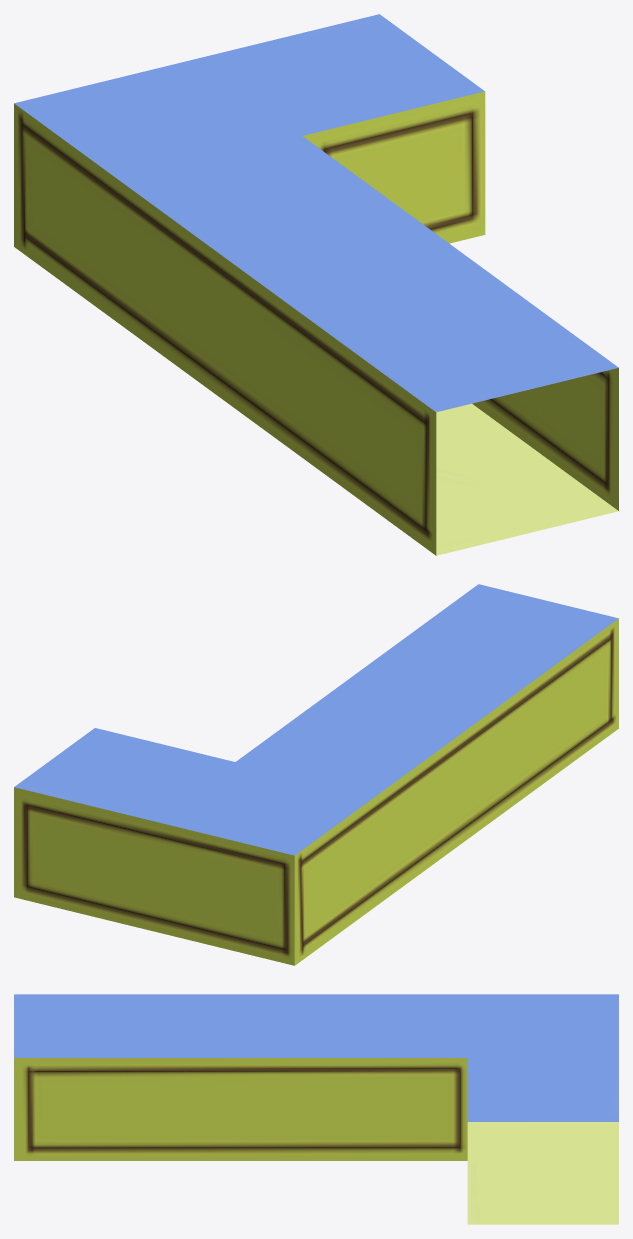
File: Pasillo_2.obj
3 views of the same model, one above another, from view 1: azimuth 30°, elevation 25°; view 2: azimuth 150°, elevation 25°; view 3: azimuth 270°, elevation 25° (orthographic). The views are drawn at different scales.
Parts seen in each view (by area): view 1: Pasillo_2; view 2: Pasillo_2; view 3: Pasillo_2.
Boxes of the visible parts, x1,y1,x2,y2 form: Pasillo_2: (14, 14, 618, 555); Pasillo_2: (14, 584, 618, 965); Pasillo_2: (14, 994, 618, 1224).
Size of the model in its own units: 14.4 by 5.4 by 28.8.
